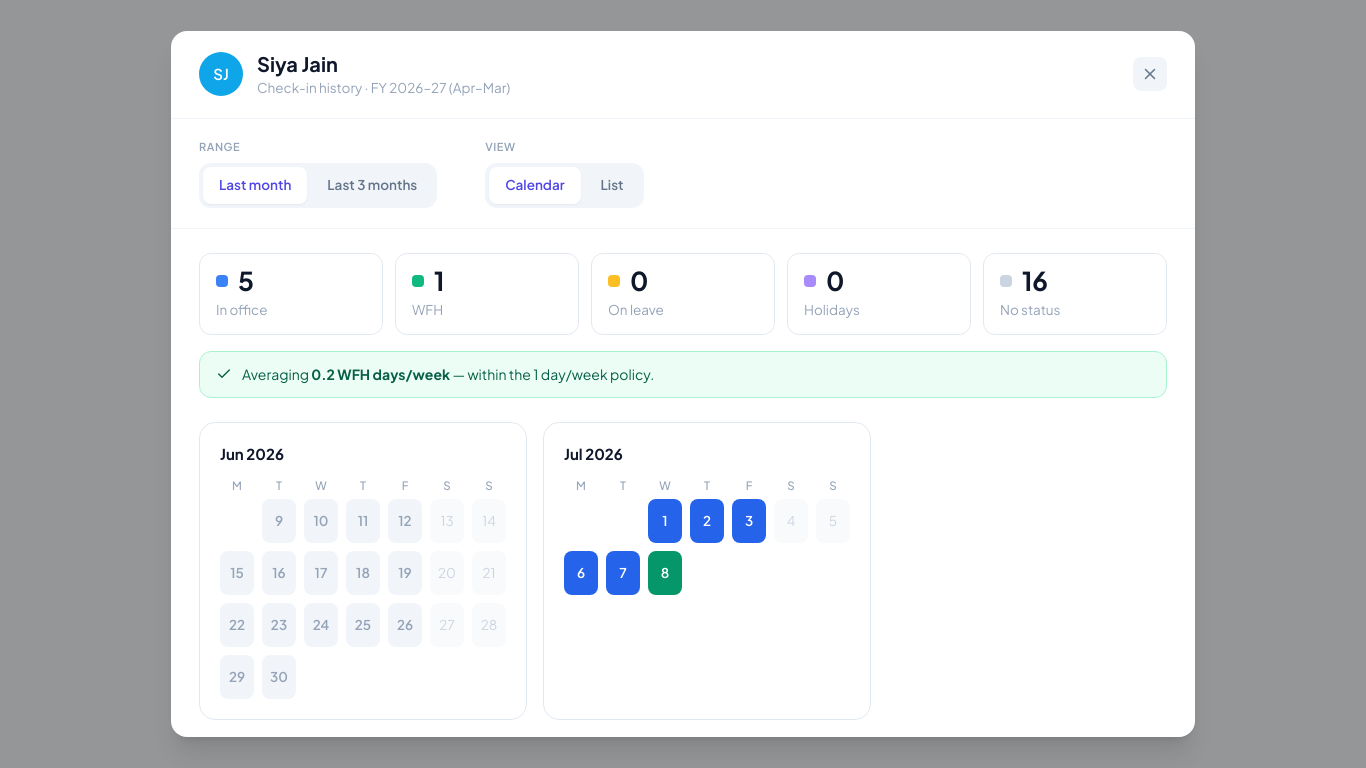
Test: CheckInHistoryModal › switches to the list view and shows a dated row per working day
Click the tab "List". click: (612, 186)
box: 585,168 -> 640,204
(page scrolled)
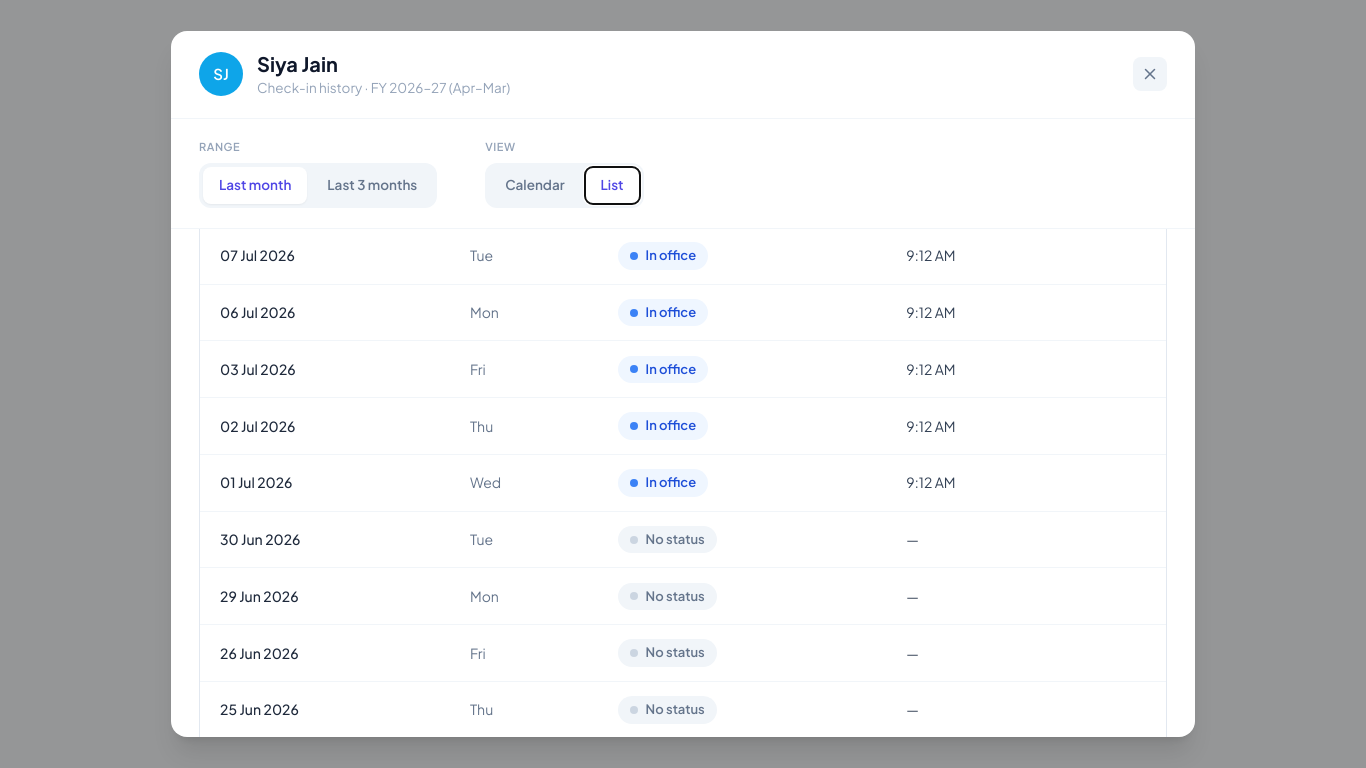
expect the text "01 Jul 2026" is shown: met, box 200,454 -> 450,511
